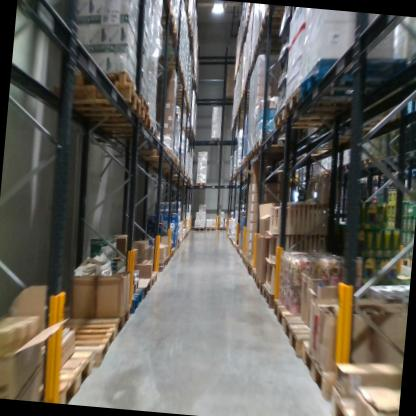pallet: (298, 46, 413, 114), (296, 334, 400, 404), (41, 72, 145, 122), (56, 315, 115, 383), (57, 96, 153, 133), (55, 296, 136, 338), (44, 57, 146, 90), (284, 78, 353, 123), (283, 308, 339, 359), (47, 346, 99, 400), (272, 107, 352, 135), (82, 117, 158, 143), (327, 382, 383, 416), (271, 291, 308, 333), (252, 131, 299, 160), (148, 18, 184, 49), (261, 8, 304, 32), (132, 146, 176, 164), (127, 286, 146, 323), (257, 283, 279, 307), (136, 275, 154, 302), (135, 87, 152, 111), (129, 274, 144, 301), (148, 265, 161, 293), (371, 151, 388, 169), (386, 151, 405, 167), (357, 154, 374, 168), (402, 145, 416, 161), (207, 133, 219, 147), (247, 259, 255, 279), (255, 278, 263, 296), (324, 164, 337, 175), (202, 224, 216, 234), (195, 182, 207, 191), (341, 160, 350, 172), (251, 268, 257, 286), (193, 225, 205, 233), (218, 224, 228, 232), (317, 170, 327, 178), (248, 149, 255, 159), (243, 154, 248, 163), (247, 150, 250, 163)
